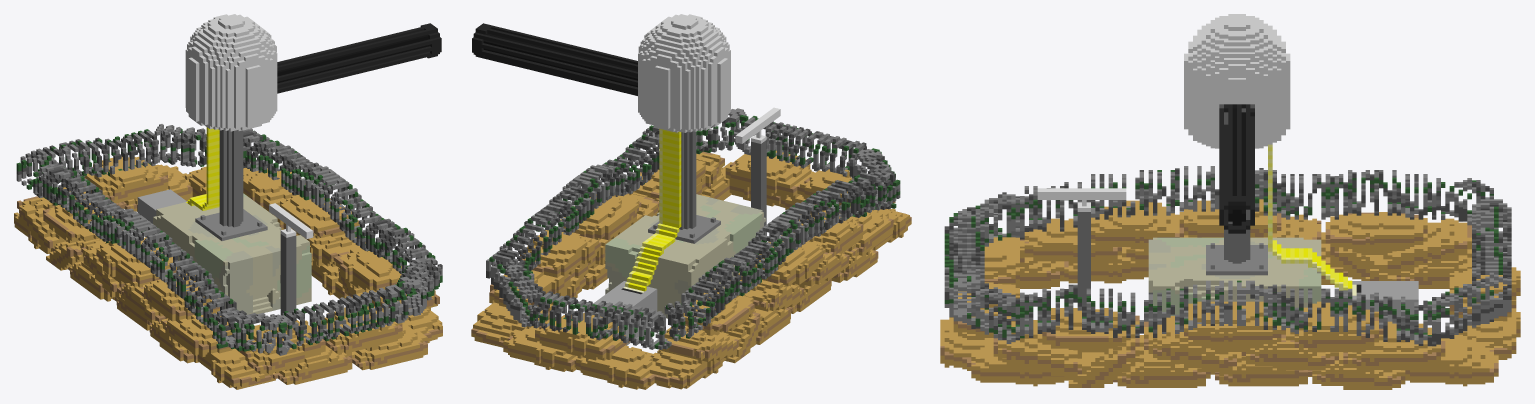
File: mitrailleuse_v3.vox.obj
3 views of the same model, side by side, from view 1: azimuth 30°, elevation 25°; view 2: azimuth 150°, elevation 25°; view 3: azimuth 270°, elevation 25° (orthographic). The views are drawn at different scales.
Size of the model in its own units: 9.9 by 7.7 by 13.1.
1 material, 1 textured.
